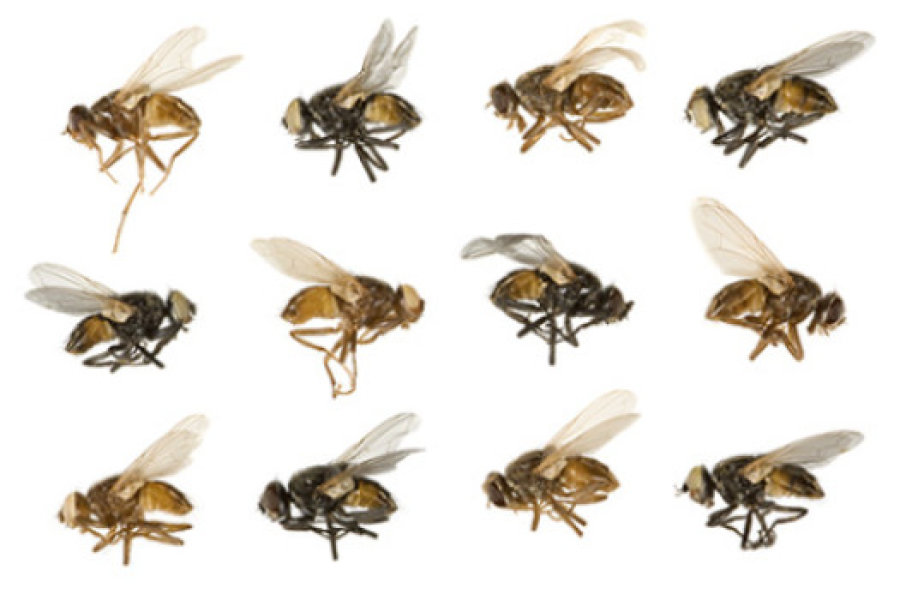house fly: (657, 6, 878, 179), (682, 182, 870, 382), (466, 397, 667, 577), (254, 10, 452, 192), (228, 404, 428, 579), (22, 410, 228, 577), (443, 210, 648, 377), (43, 26, 223, 213), (246, 218, 429, 391), (673, 416, 864, 570), (470, 9, 634, 177), (7, 257, 231, 374)
